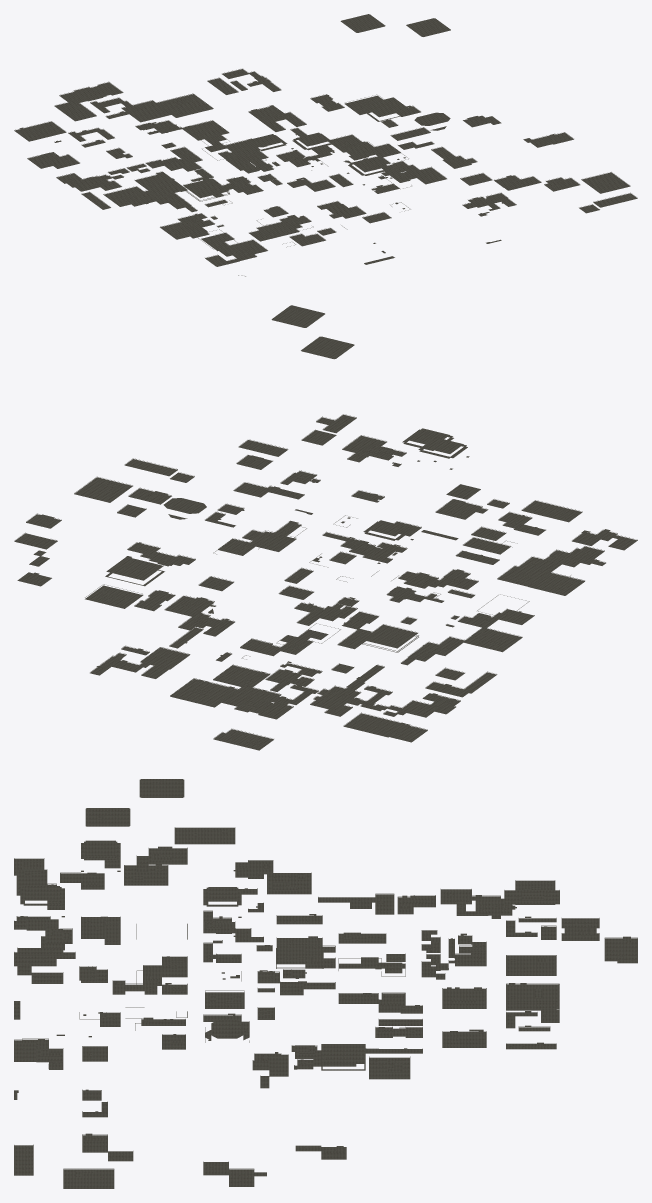
File: bigcitymain04.glb
3 views of the same model, one above another, from view 1: azimuth 30°, elevation 25°; view 2: azimuth 150°, elevation 25°; view 3: azimuth 270°, elevation 25° (orthographic). The views are drawn at different scales.
Parts seen in each view (by area): view 1: Roofs; view 2: Roofs; view 3: Roofs.
Part boxes in pixels (x1,y1,x2,y2): Roofs: (14, 14, 637, 276); Roofs: (14, 305, 637, 750); Roofs: (14, 779, 637, 1188).
Size of the model in its own units: 676 by 295 by 640.
Materials: 1 (1 with a texture image).
